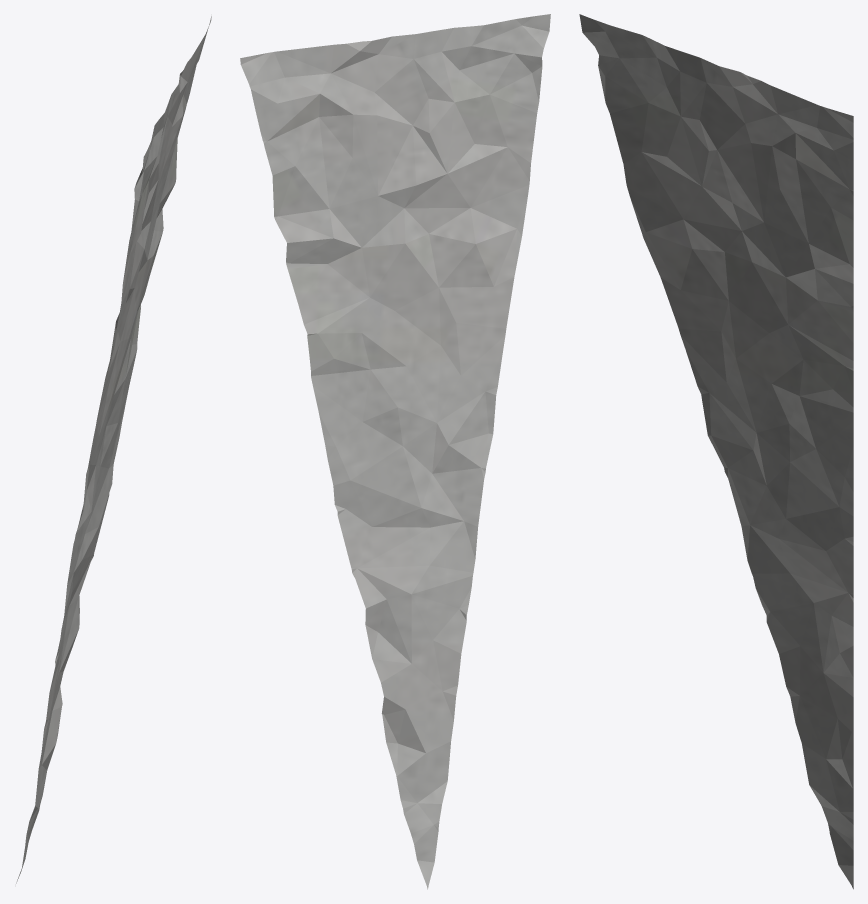
3 views of the same model, side by side, from view 1: azimuth 30°, elevation 25°; view 2: azimuth 150°, elevation 25°; view 3: azimuth 270°, elevation 25° (orthographic). The views are drawn at different scales.
Bounding box in the file's own units: 0.1593 × 0.6374 × 0.1808.
1 material, 1 textured.
